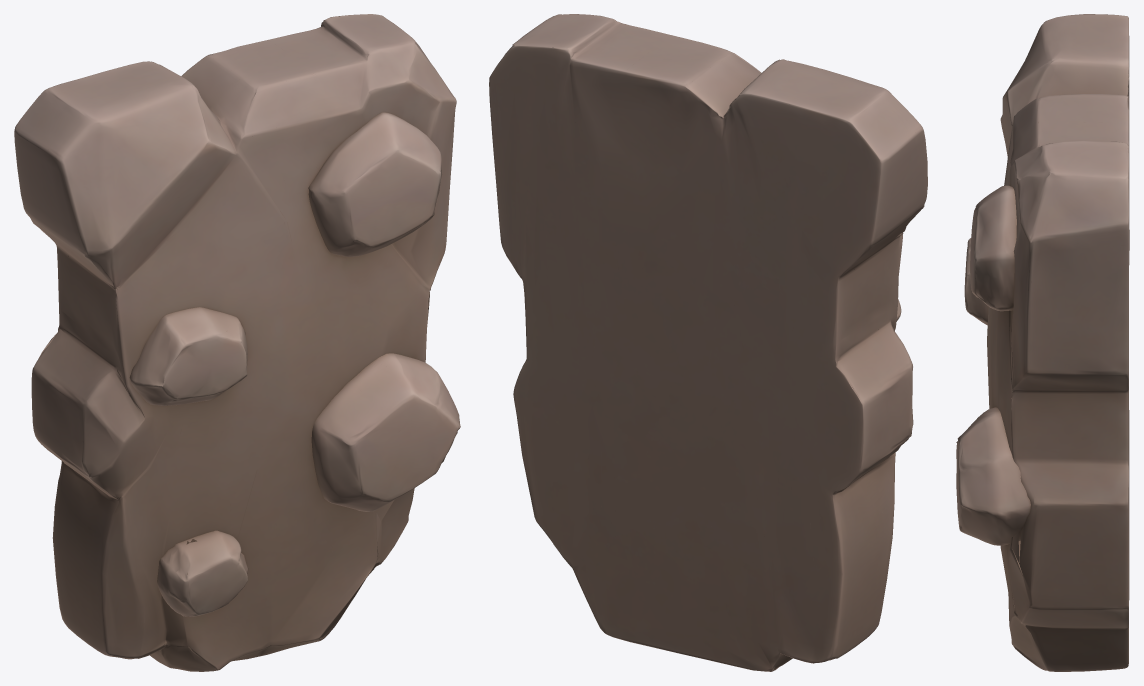
Rendered from bulwark-r4-smart.glb.
The picture shows the model from 3 angles, left to right: view 1: azimuth 30°, elevation 25°; view 2: azimuth 150°, elevation 25°; view 3: azimuth 270°, elevation 25°; orthographic projection. The views are drawn at different scales.
Parts seen in each view (by area): view 1: geometry_0; view 2: geometry_0; view 3: geometry_0.
Boxes of the visible parts, box(x1,y1,x2,y2) form: geometry_0: box(14, 14, 460, 671); geometry_0: box(489, 14, 927, 671); geometry_0: box(956, 14, 1129, 671).
Bounding box in the file's own units: 0.6753 × 0.9507 × 0.271.
Materials: 1 (1 with a texture image).
